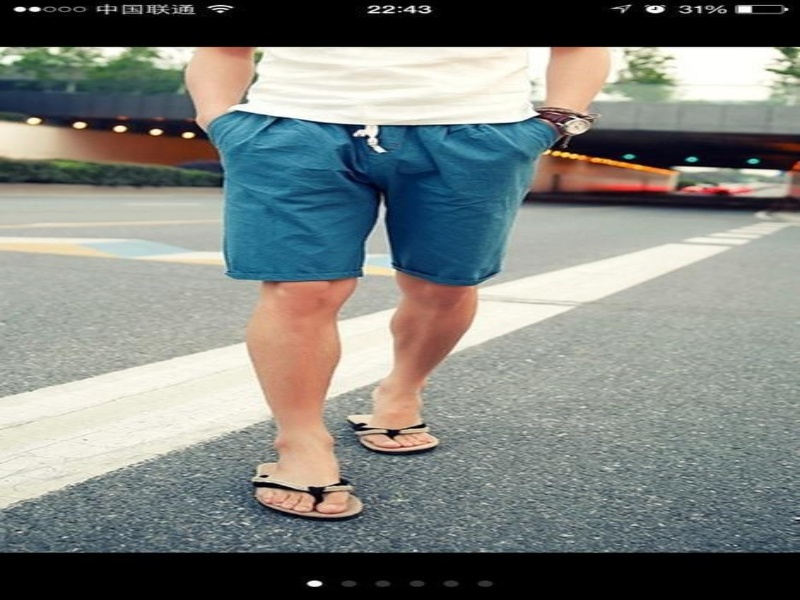short_sleeved_shirt: (222, 44, 549, 127)
shorts: (197, 102, 568, 289)
